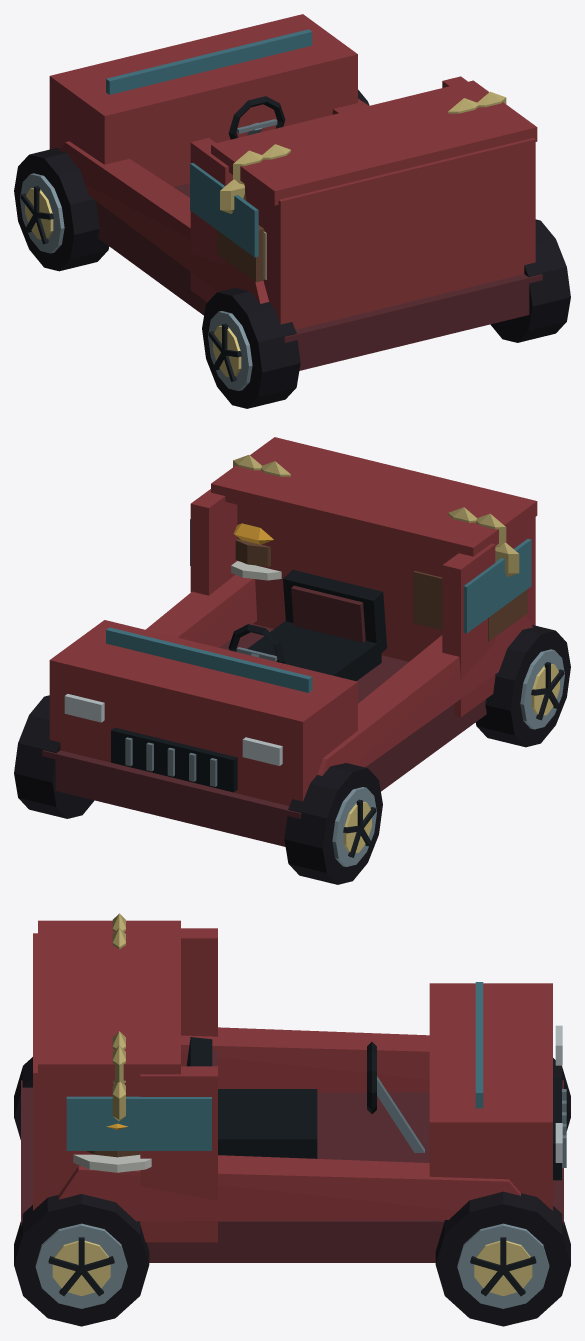
File: kart.glb
3 views of the same model, one above another, from view 1: azimuth 30°, elevation 25°; view 2: azimuth 150°, elevation 25°; view 3: azimuth 270°, elevation 25° (orthographic). The views are drawn at different scales.
Visible parts, largest first — view 1: identity-van-van-utility-body, wheel-rear-left, wheel-front-left, wheel-rear-right, identity-van-motif-flowers, identity-van-motif-basket, identity-van-driver-cockpit; view 2: identity-van-van-utility-body, identity-van-driver-cockpit, wheel-front-left, wheel-rear-left, wheel-front-right, identity-van-motif-basket, identity-van-motif-food, identity-van-motif-flowers; view 3: identity-van-van-utility-body, wheel-front-right, wheel-rear-right, identity-van-driver-cockpit, identity-van-motif-flowers, identity-van-motif-food, wheel-rear-left.
Part boxes in pixels (x1=…): identity-van-van-utility-body: x1=49, y1=14, x2=542, y2=370; wheel-rear-left: x1=202, y1=287, x2=300, y2=408; wheel-front-left: x1=14, y1=148, x2=109, y2=271; wheel-rear-right: x1=490, y1=219, x2=570, y2=342; identity-van-motif-flowers: x1=220, y1=91, x2=506, y2=213; identity-van-motif-basket: x1=217, y1=192, x2=266, y2=282; identity-van-driver-cockpit: x1=228, y1=96, x2=285, y2=139; identity-van-van-utility-body: x1=42, y1=437, x2=537, y2=846; identity-van-driver-cockpit: x1=228, y1=569, x2=386, y2=681; wheel-front-left: x1=284, y1=763, x2=382, y2=884; wheel-rear-left: x1=475, y1=625, x2=570, y2=747; wheel-front-right: x1=14, y1=695, x2=94, y2=818; identity-van-motif-basket: x1=413, y1=571, x2=527, y2=641; identity-van-motif-food: x1=231, y1=523, x2=281, y2=580; identity-van-motif-flowers: x1=233, y1=455, x2=519, y2=576; identity-van-van-utility-body: x1=21, y1=920, x2=566, y2=1262; wheel-front-right: x1=435, y1=1191, x2=570, y2=1326; wheel-rear-right: x1=14, y1=1194, x2=149, y2=1326; identity-van-driver-cockpit: x1=186, y1=1037, x2=424, y2=1158; identity-van-motif-flowers: x1=112, y1=913, x2=125, y2=1121; identity-van-motif-food: x1=73, y1=1123, x2=151, y2=1172; wheel-rear-left: x1=14, y1=1057, x2=32, y2=1139.
Bounding box in the file's own units: 2.13 × 1.46 × 2.8.
